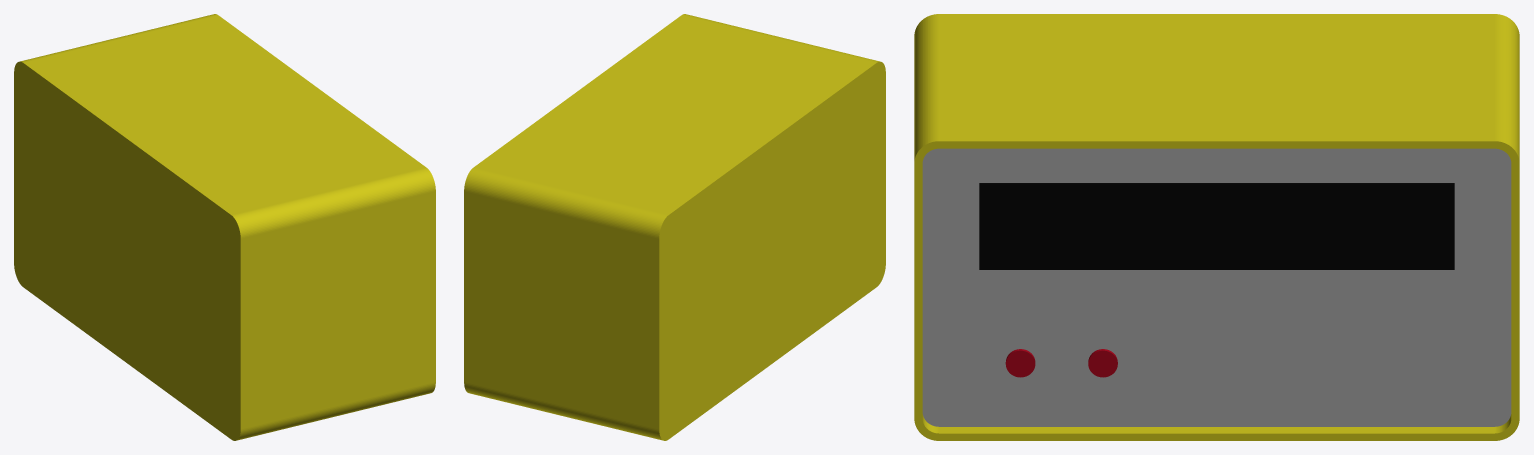
The model's file is GeigerTeller.fbx.
3 views of the same model, side by side, from view 1: azimuth 30°, elevation 25°; view 2: azimuth 150°, elevation 25°; view 3: azimuth 270°, elevation 25° (orthographic). The views are drawn at different scales.
Visible parts, largest first — view 1: Cube; view 2: Cube; view 3: Cube.
Boxes of the visible parts, <box> form: Cube: <box>14,14,435,440</box>; Cube: <box>464,14,885,440</box>; Cube: <box>914,14,1519,440</box>.
Size of the model in its own units: 182 by 200 by 366.
1 material, 1 textured.
